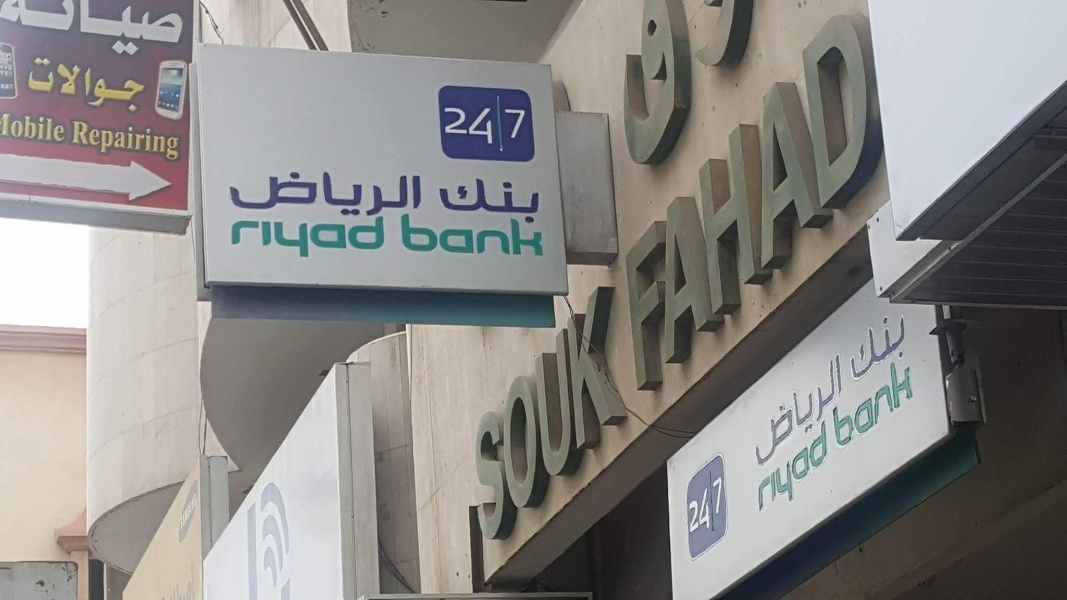text: (625, 1, 640, 410), (641, 1, 656, 410), (657, 1, 672, 410), (673, 1, 688, 410), (689, 1, 704, 410), (705, 1, 720, 410), (721, 1, 736, 410), (737, 1, 752, 410), (753, 1, 768, 410), (769, 1, 784, 410), (785, 1, 800, 410), (801, 1, 816, 410), (817, 1, 832, 410), (833, 1, 848, 410), (849, 1, 864, 410), (865, 1, 880, 410), (881, 1, 896, 410), (465, 270, 480, 556), (481, 270, 496, 556), (497, 270, 512, 556), (513, 270, 528, 556), (529, 270, 544, 556), (545, 270, 560, 556), (561, 270, 576, 556), (577, 270, 592, 556), (593, 270, 608, 556), (609, 270, 624, 556), (753, 3, 769, 186), (625, 3, 640, 186), (641, 3, 656, 186), (657, 3, 672, 186), (673, 3, 688, 186), (689, 3, 704, 186), (705, 3, 720, 186), (721, 3, 736, 186), (737, 3, 752, 186), (625, 270, 633, 556), (619, 1, 624, 410), (897, 1, 902, 410), (769, 351, 784, 473), (785, 351, 800, 473), (801, 351, 816, 473), (817, 351, 832, 473), (833, 351, 848, 473), (769, 418, 784, 524), (785, 418, 800, 524), (801, 418, 816, 524), (817, 418, 832, 524), (833, 352, 848, 453), (849, 352, 864, 453), (865, 352, 880, 453), (881, 352, 896, 453), (897, 352, 912, 453), (756, 351, 768, 473), (849, 308, 864, 391), (865, 308, 880, 391), (881, 308, 896, 391), (897, 308, 912, 391), (1, 2, 16, 65), (17, 2, 32, 65), (33, 2, 48, 65), (49, 2, 64, 65), (65, 2, 80, 65), (81, 2, 96, 65), (97, 2, 112, 65), (113, 2, 128, 65), (129, 2, 144, 65), (145, 2, 160, 65), (161, 2, 176, 65), (619, 3, 624, 186), (913, 352, 922, 453), (33, 55, 48, 115), (49, 55, 64, 115), (65, 55, 80, 115), (81, 55, 96, 115), (97, 55, 112, 115), (113, 55, 128, 115), (129, 55, 144, 115), (760, 418, 768, 524), (913, 308, 923, 391), (689, 486, 704, 540), (449, 171, 464, 225), (465, 171, 480, 225), (481, 171, 496, 225), (497, 171, 512, 225), (513, 171, 528, 225), (241, 166, 256, 219), (257, 166, 272, 219), (273, 166, 288, 219), (289, 166, 304, 219), (305, 166, 320, 219), (321, 166, 336, 219), (337, 166, 352, 219), (353, 166, 368, 219), (369, 166, 384, 219), (385, 166, 400, 219), (401, 166, 416, 219), (401, 213, 416, 261), (417, 213, 432, 261), (433, 213, 448, 261), (449, 213, 464, 261), (465, 213, 480, 261), (481, 213, 496, 261), (497, 213, 512, 261), (513, 213, 528, 261), (529, 213, 544, 261), (177, 2, 188, 65), (241, 214, 256, 259), (257, 214, 272, 259), (273, 214, 288, 259), (289, 214, 304, 259), (305, 214, 320, 259), (321, 214, 336, 259), (337, 214, 352, 259), (353, 214, 368, 259), (369, 214, 384, 259), (81, 118, 96, 162), (97, 118, 112, 162), (113, 118, 128, 162), (129, 118, 144, 162), (145, 118, 160, 162), (161, 118, 176, 162), (436, 171, 448, 225), (529, 171, 541, 225), (228, 166, 240, 219), (449, 105, 464, 147), (465, 105, 480, 147), (481, 105, 495, 147), (841, 308, 848, 391), (705, 486, 715, 540), (228, 214, 240, 259), (708, 473, 720, 518), (180, 492, 192, 536), (1, 113, 16, 146), (17, 113, 32, 146), (33, 113, 48, 146), (49, 113, 64, 146), (849, 351, 853, 473), (513, 108, 526, 141), (417, 166, 424, 219), (73, 118, 80, 162), (28, 55, 32, 115), (505, 108, 512, 141), (65, 113, 72, 146), (385, 214, 390, 259), (443, 105, 448, 147), (830, 352, 832, 453), (721, 473, 725, 518), (193, 492, 197, 536), (145, 55, 147, 115), (686, 486, 688, 540), (398, 213, 400, 261), (177, 118, 179, 162), (545, 213, 546, 261)
